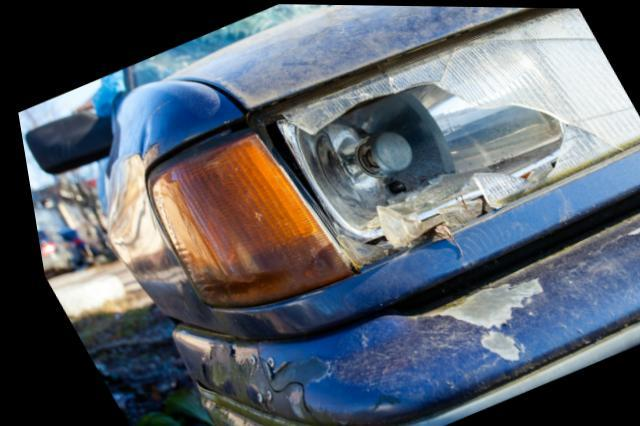glass shatter: (127, 3, 341, 86)
lamp broken: (259, 6, 640, 269)
